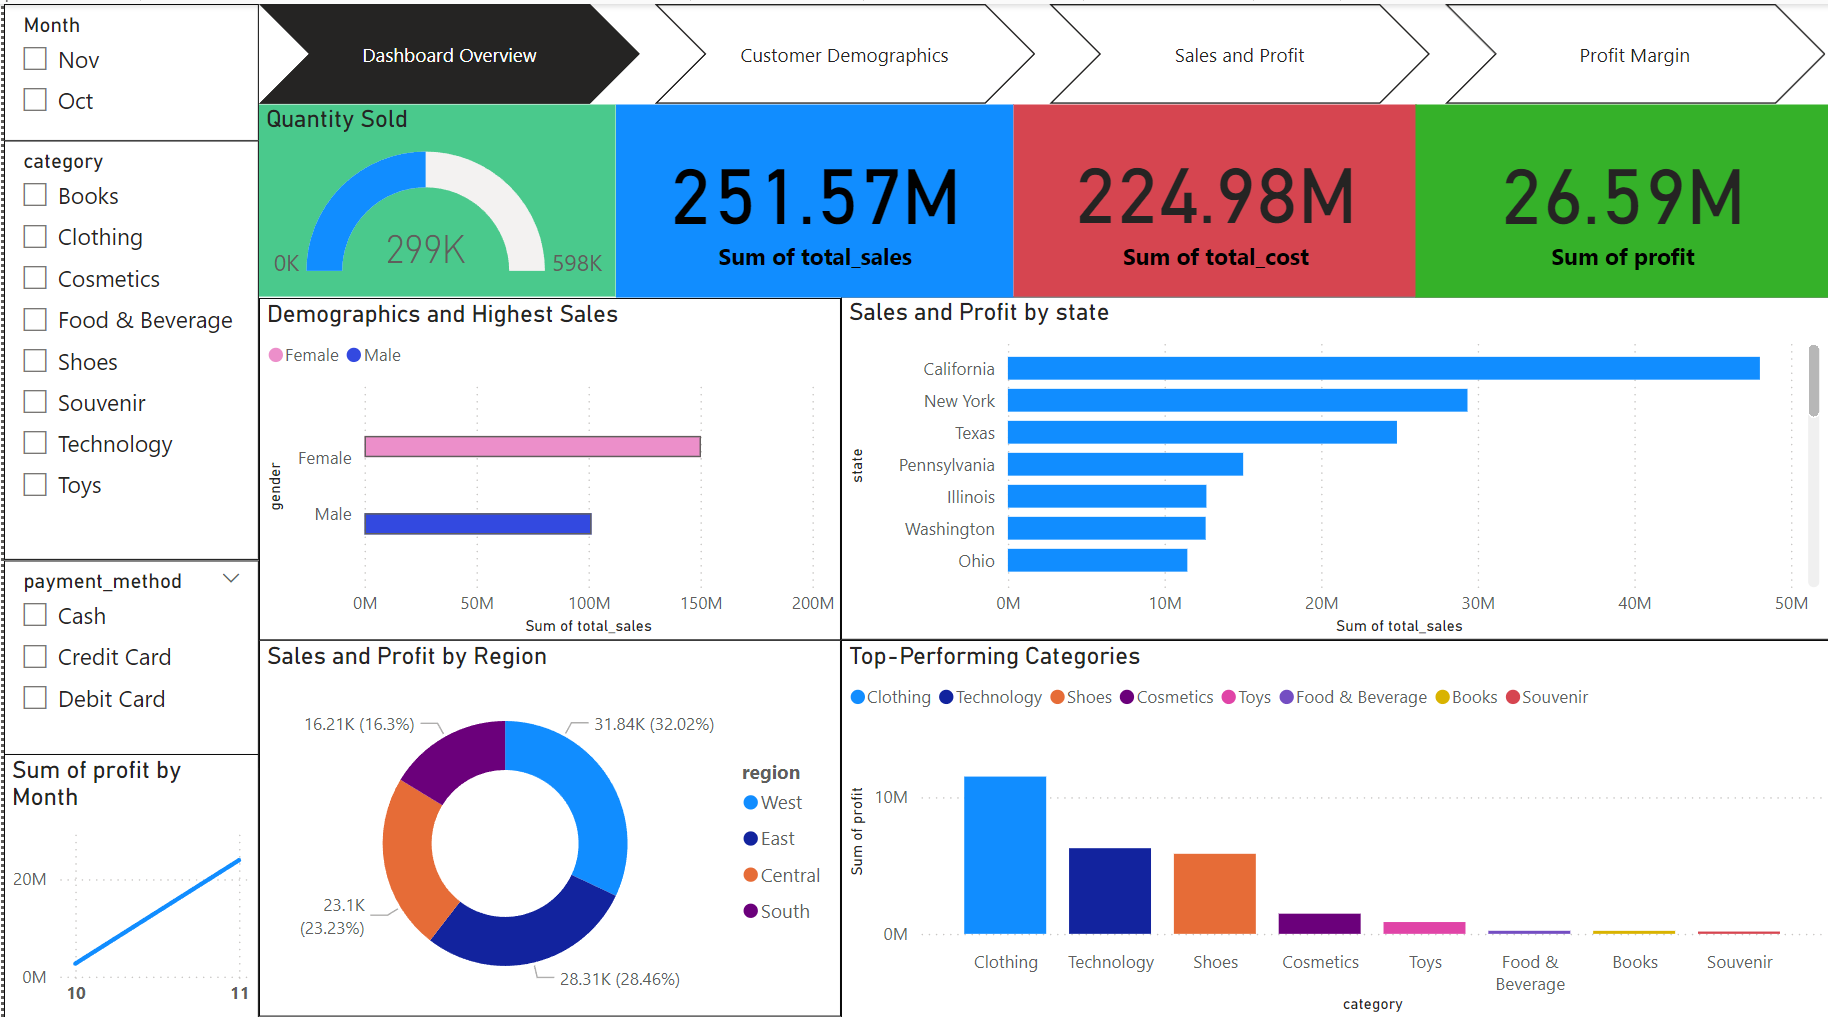

The page's visual inventory and layout, read from the dashboard file:
{"tool":"powerbi","page":{"name":"Dashboard Overview","canvas":[1280,720],"ordinal":0},"visuals":[{"type":"slicer","fields":{"Values":["Table2.First Characters"]},"box":[0,0,178.4,96.2],"z":0},{"type":"slicer","fields":{"Values":["Table2.payment_method"]},"box":[0,390.2,178.8,145.1],"z":1000},{"type":"card","fields":{"Values":["Sum(Table2.total_sales)"]},"box":[428.7,0,279.3,135.6],"z":2000},{"type":"card","fields":{"Values":["Sum(Table2.total_cost)"]},"box":[708,1.2,282.7,134.4],"z":3000},{"type":"card","fields":{"Values":["Sum(Table2.profit)"]},"box":[990.7,0,289.7,135.6],"z":4000},{"type":"slicer","fields":{"Values":["Table2.category"]},"box":[0,96.2,178.4,294.3],"z":5000},{"type":"clusteredBarChart","title":"Sales and Profit by state","fields":{"Category":["Table2.state"],"Y":["Sum(Table2.total_sales)"]},"box":[708,135.6,572.4,265.3],"z":6000},{"type":"donutChart","title":"Sales and Profit by Region ","fields":{"Category":["Table2.region"],"Y":["CountNonNull(Table2.region)"]},"box":[178.4,360.4,529.5,349.9],"z":7000},{"type":"gauge","title":"Quantity Sold","fields":{"Y":["Sum(Table2.quantity)"]},"box":[178.4,0,250.3,135.6],"z":8000},{"type":"columnChart","title":"Top-Performing Categories","fields":{"Category":["Table2.category"],"Y":["Sum(Table2.profit)"],"Series":["Table2.category"]},"box":[708,400.9,572.4,309.4],"z":9000},{"type":"clusteredBarChart","title":"Demographics and Highest Sales","fields":{"Category":["Table2.gender"],"Y":["Sum(Table2.total_sales)"],"Series":["Table2.gender"]},"box":[178.4,135.6,529.5,224.8],"z":10000},{"type":"lineChart","fields":{"Category":["Table2.Month"],"Y":["Sum(Table2.profit)"]},"box":[0,525.8,178.8,185.1],"z":11000}]}

Visuals, with their boxes in screenshot pixels (x1, y1, x2, y2), scaled from the page's 1280x720 canvas onto the 1828x1017 screenshot:
slicer - Table2.First Characters: (0,0,255,136)
slicer - Table2.payment_method: (0,551,255,756)
card - Sum(Table2.total_sales): (612,0,1011,192)
card - Sum(Table2.total_cost): (1011,2,1415,192)
card - Sum(Table2.profit): (1415,0,1827,192)
slicer - Table2.category: (0,136,255,552)
"Sales and Profit by state" clusteredBarChart: (1011,192,1827,566)
"Sales and Profit by Region " donutChart: (255,509,1011,1003)
"Quantity Sold" gauge: (255,0,612,192)
"Top-Performing Categories" columnChart: (1011,566,1827,1003)
"Demographics and Highest Sales" clusteredBarChart: (255,192,1011,509)
lineChart - Table2.Month x Sum(Table2.profit): (0,743,255,1004)
